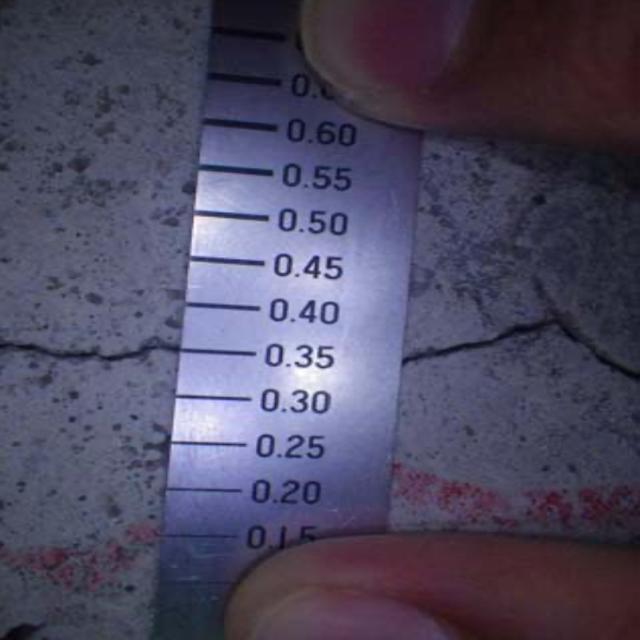crack: (410, 254, 640, 412), (0, 298, 179, 382)
